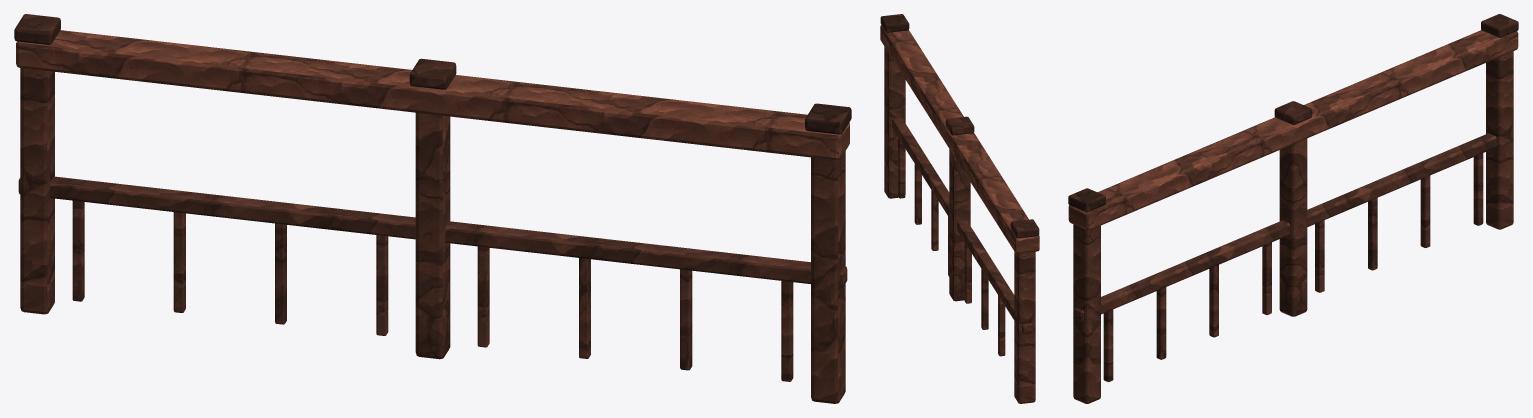
The model's file is railing_diagonal__clay_brick.glb.
The picture shows the model from 3 angles, left to right: view 1: azimuth 30°, elevation 25°; view 2: azimuth 150°, elevation 25°; view 3: azimuth 270°, elevation 25°; orthographic projection. The views are drawn at different scales.
Parts seen in each view (by area): view 1: model; view 2: model; view 3: model.
Part boxes in pixels (<box>): model: <box>14,14,851,403</box>; model: <box>880,14,1039,403</box>; model: <box>1068,14,1518,403</box>.
Size of the model in its own units: 2.09 by 1.04 by 2.09.
3 materials, 3 textured.
